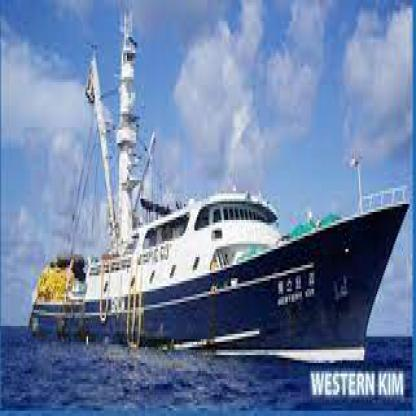fish-b: (10, 3, 415, 371)
